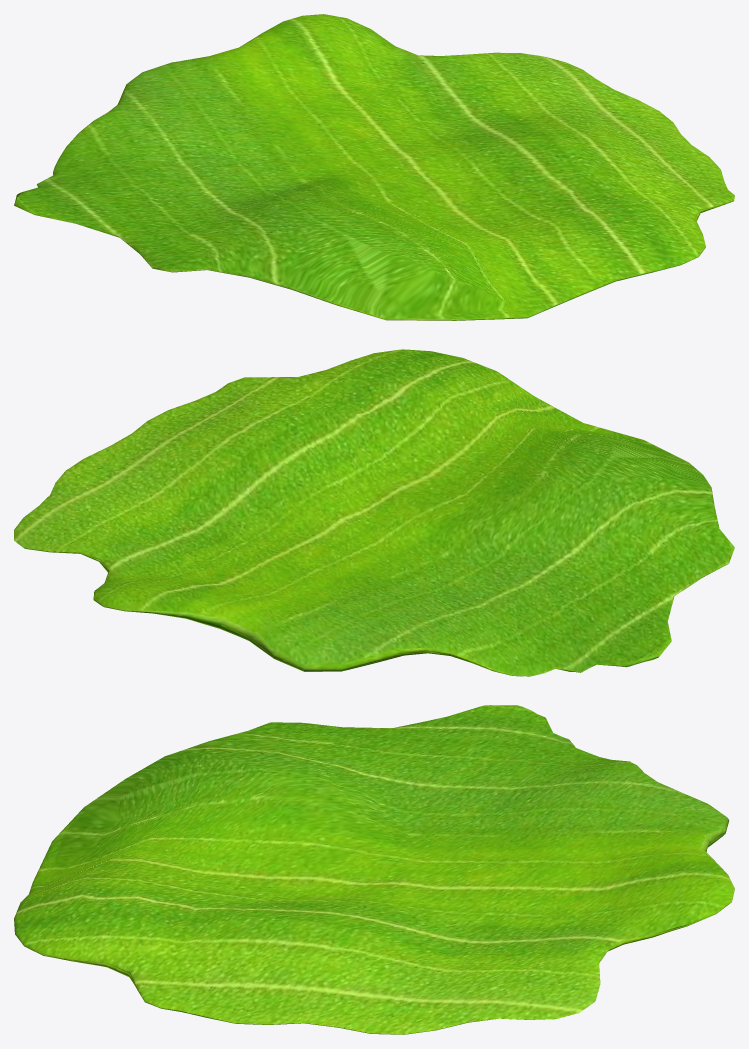
The model's file is new_lettuce.fbx.
3 renders of one model, top to bottom at view 1: azimuth 30°, elevation 25°; view 2: azimuth 150°, elevation 25°; view 3: azimuth 270°, elevation 25°, orthographic. The views are drawn at different scales.
Visible parts, largest first — view 1: Lettuce.005; view 2: Lettuce.005; view 3: Lettuce.005.
Part boxes in pixels (x1=…): Lettuce.005: x1=14, y1=14, x2=734, y2=320; Lettuce.005: x1=14, y1=349, x2=734, y2=676; Lettuce.005: x1=14, y1=705, x2=734, y2=1034.
Bounding box in the file's own units: 14.85 × 1.26 × 14.36.
